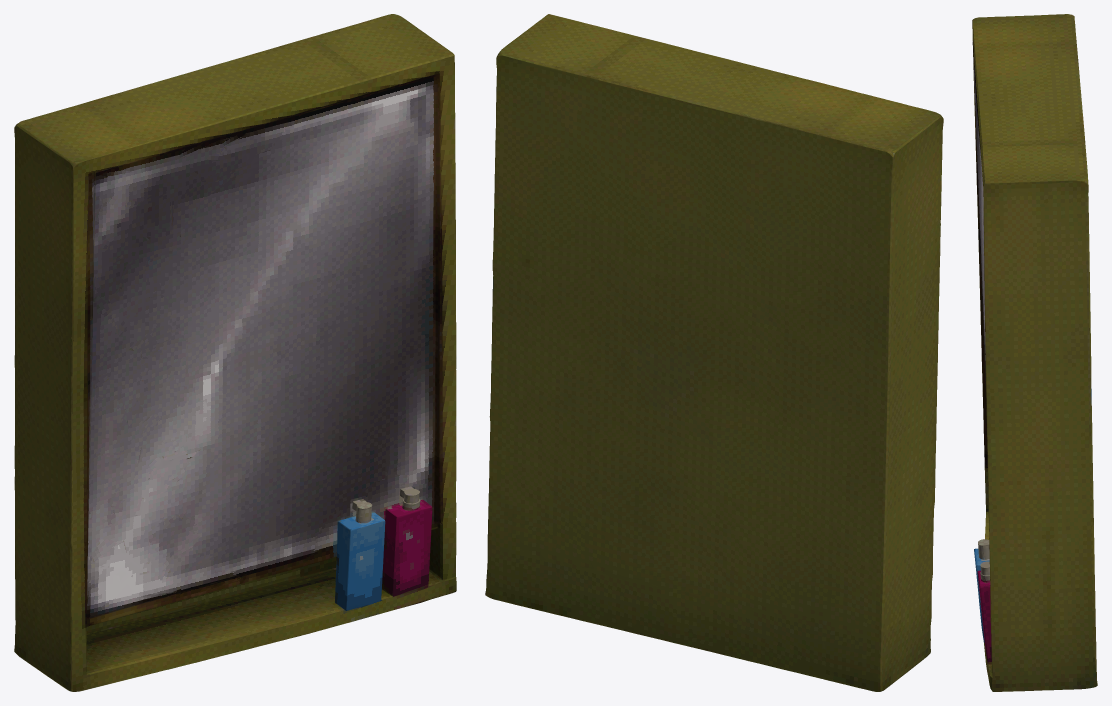
File: mirror_cabinet_psx.glb
3 renders of one model, left to right at view 1: azimuth 30°, elevation 25°; view 2: azimuth 150°, elevation 25°; view 3: azimuth 270°, elevation 25°, orthographic. The views are drawn at different scales.
Parts seen in each view (by area): view 1: espelheira; view 2: espelheira; view 3: espelheira.
Part boxes in pixels (<box>): espelheira: <box>14,14,456,691</box>; espelheira: <box>485,14,943,691</box>; espelheira: <box>972,14,1097,691</box>.
Bounding box in the file's own units: 0.7293 × 0.9607 × 0.2132.
1 material, 1 textured.
